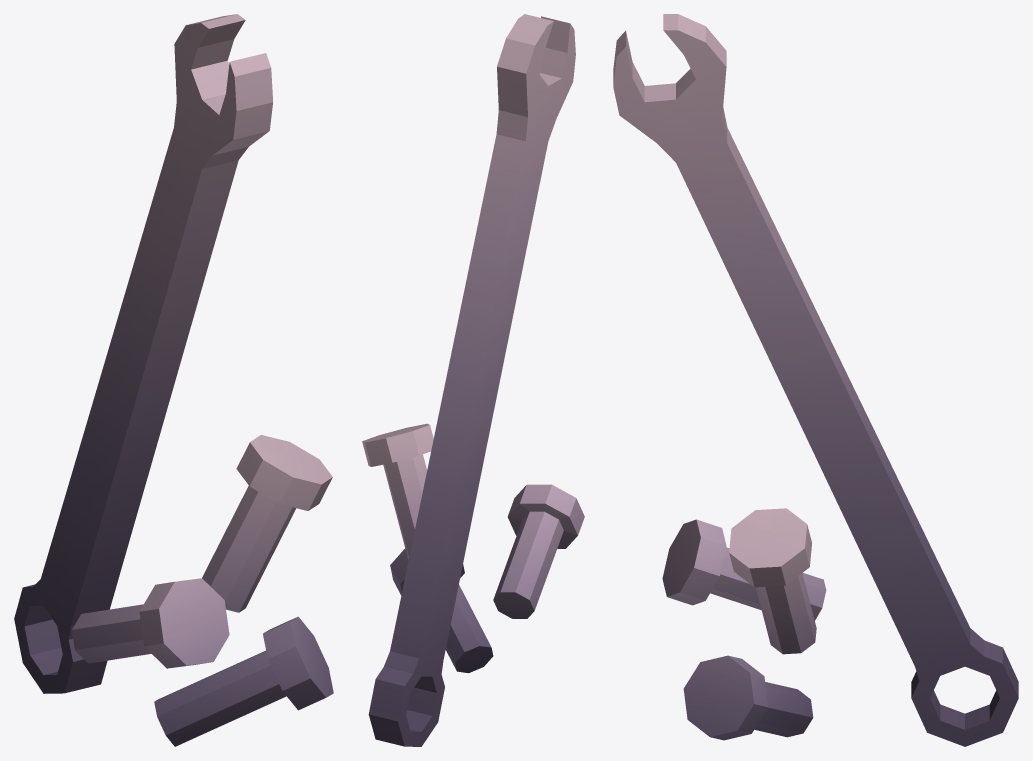
File: Powerup_Wrench.fbx
3 views of the same model, side by side, from view 1: azimuth 30°, elevation 25°; view 2: azimuth 150°, elevation 25°; view 3: azimuth 270°, elevation 25° (orthographic). The views are drawn at different scales.
Visible parts, largest first — view 1: Wrench; view 2: Wrench; view 3: Wrench.
Boxes of the visible parts, x1=… form: Wrench: x1=14, y1=14, x2=333, y2=746; Wrench: x1=362, y1=14, x2=584, y2=746; Wrench: x1=613, y1=14, x2=1018, y2=746.
Bounding box in the file's own units: 42.23 × 138 × 70.65.
